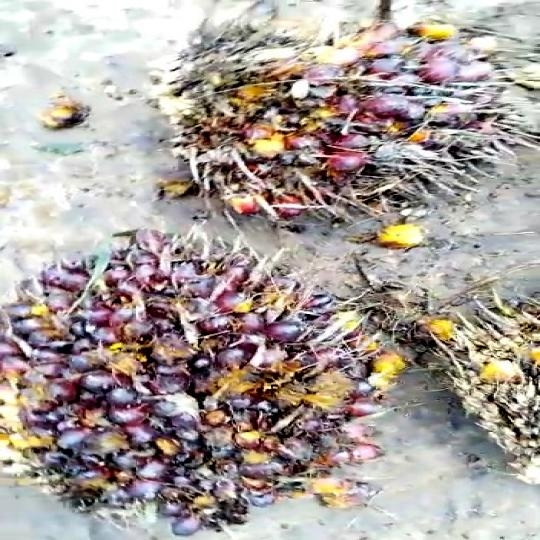masak: (0, 218, 398, 538), (136, 6, 540, 220)
